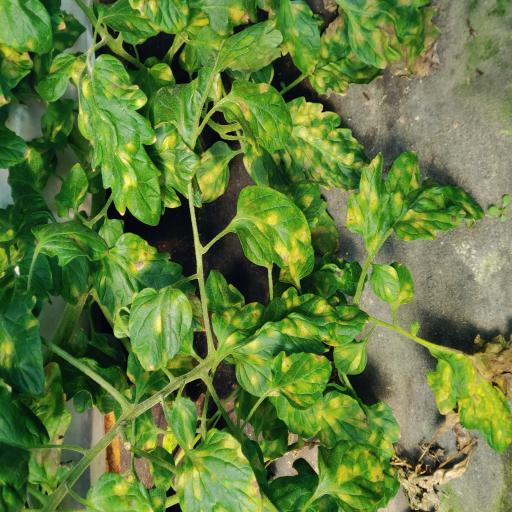disease_tomato: (34, 52, 162, 226), (346, 152, 486, 254), (218, 286, 340, 397), (425, 334, 512, 454), (270, 96, 370, 191), (317, 402, 401, 512), (346, 0, 442, 78), (175, 428, 263, 512), (236, 185, 310, 269), (223, 78, 293, 156), (128, 287, 192, 372), (270, 349, 332, 409), (275, 0, 321, 76), (318, 390, 372, 448)
